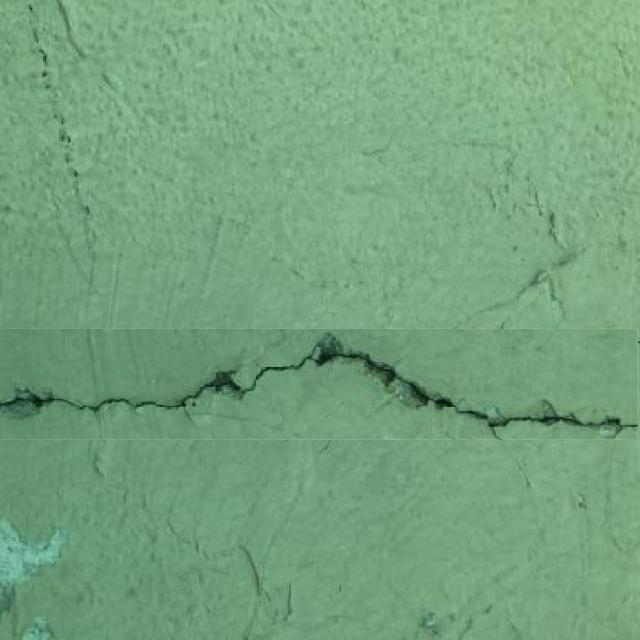Crack: (0, 330, 639, 440)
